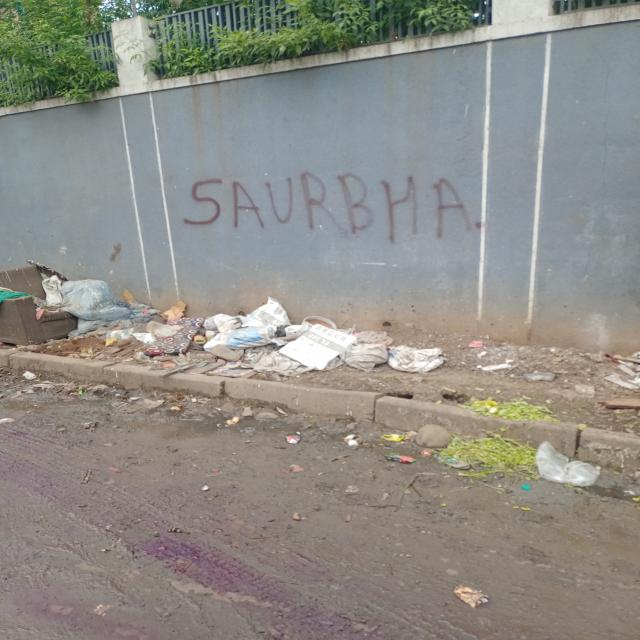garbage: (116, 304, 451, 376), (0, 268, 114, 350)
